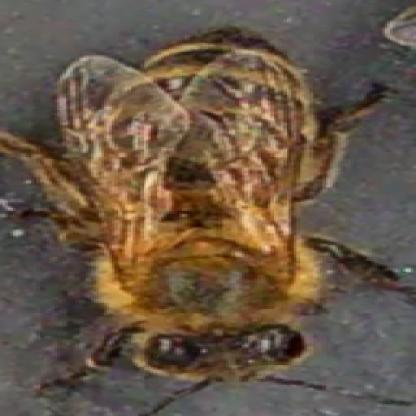bee: (51, 43, 322, 374)
